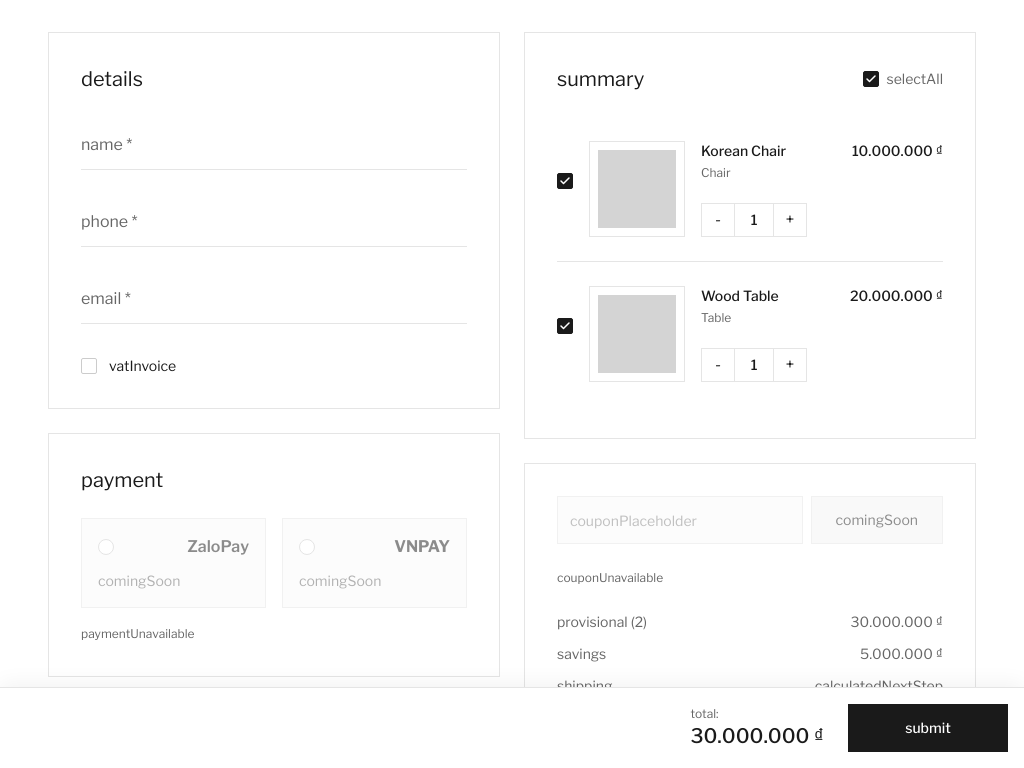
it: CheckoutPage › shows validation error if no items are selected
The width and height of the screenshot is (1024, 768).
# Uncheck select all
Click the checkbox labelled "selectAll" at (870, 79), box [862, 71, 878, 87]
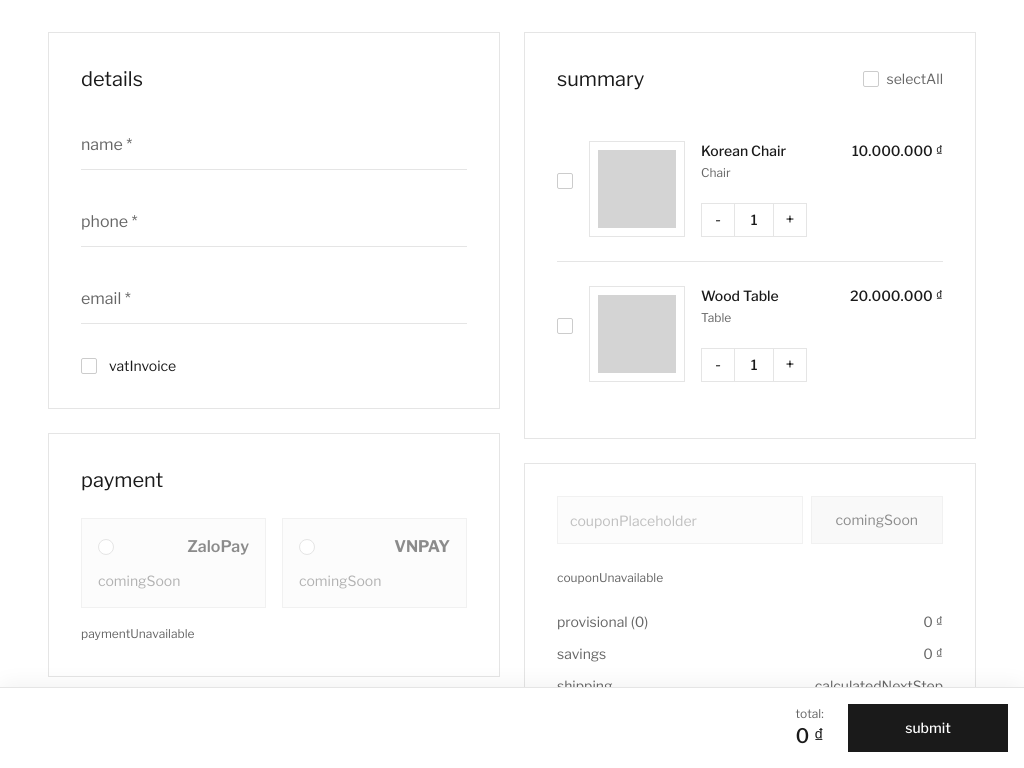
Click the button "submit" at (928, 728), box [848, 704, 1008, 752]
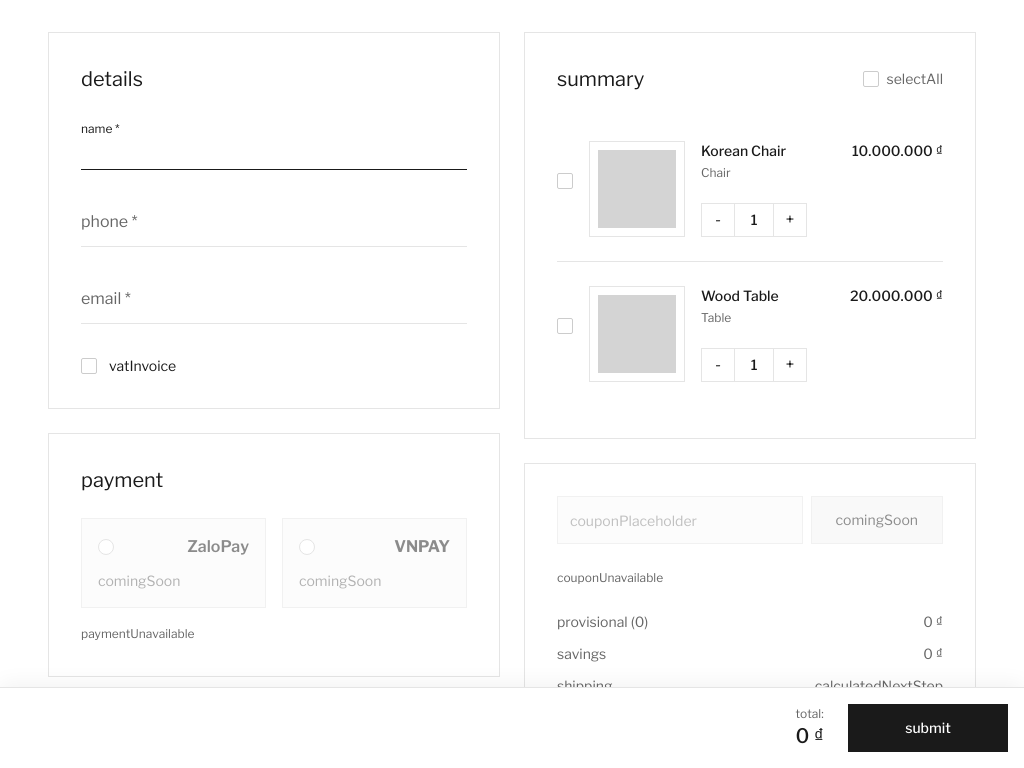
Submit the form with test id "checkout-form", box [81, 117, 467, 376]
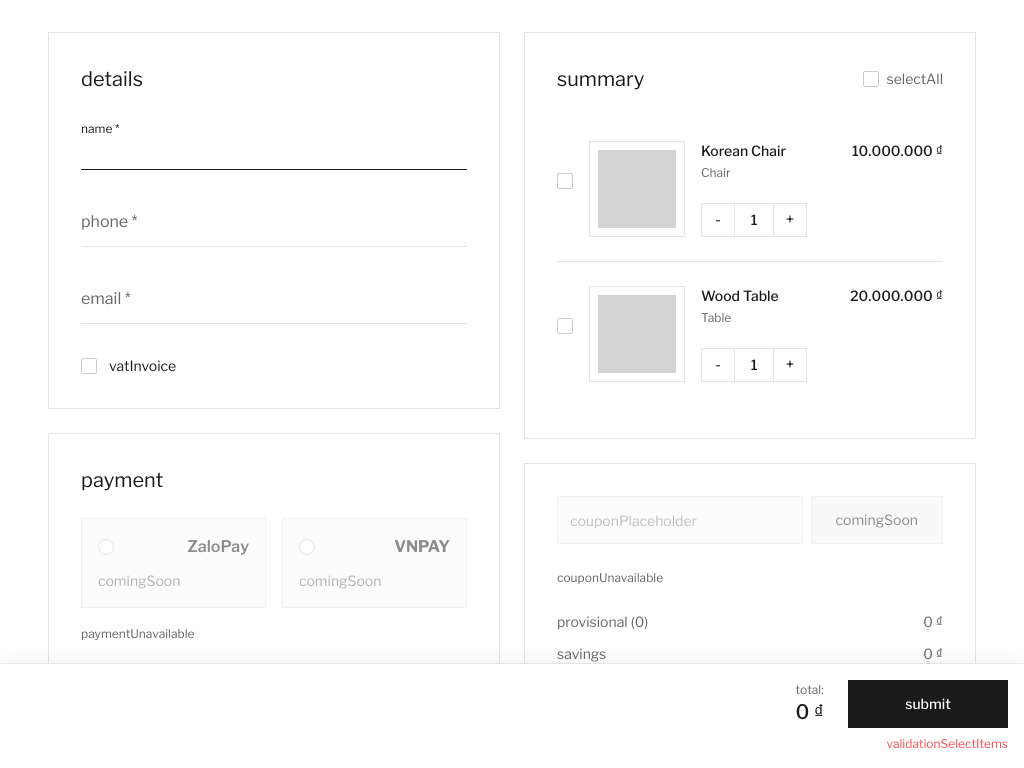
Result: the text "validationSelectItems" is shown at [886, 736, 1008, 751]
